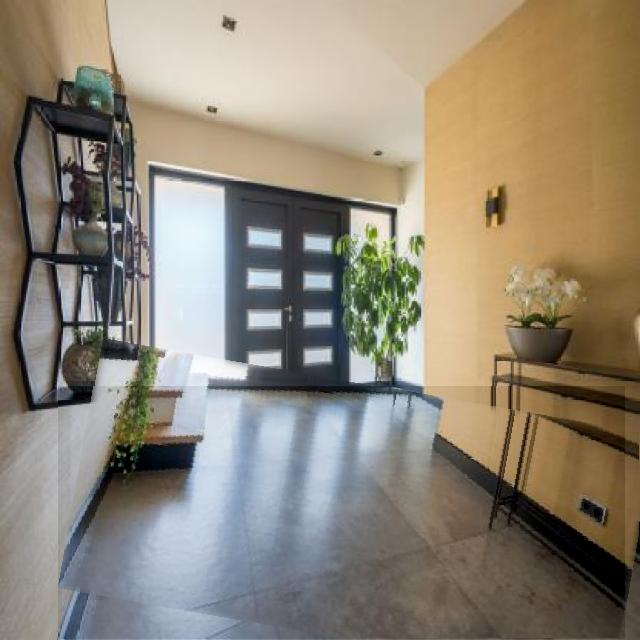floor: (59, 387, 625, 639)
